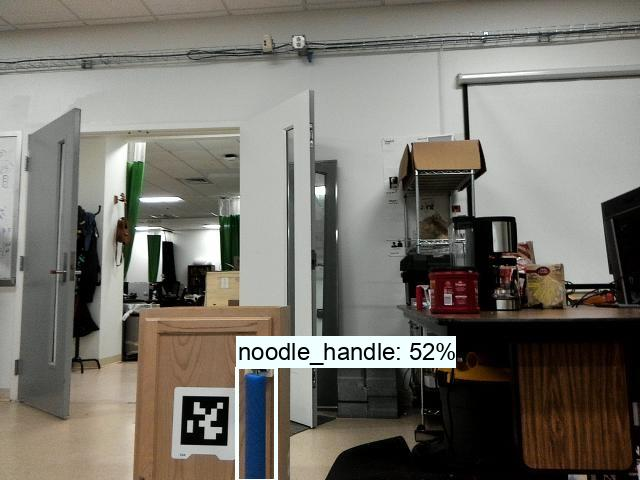noodle_handle: (234, 369, 273, 480)
